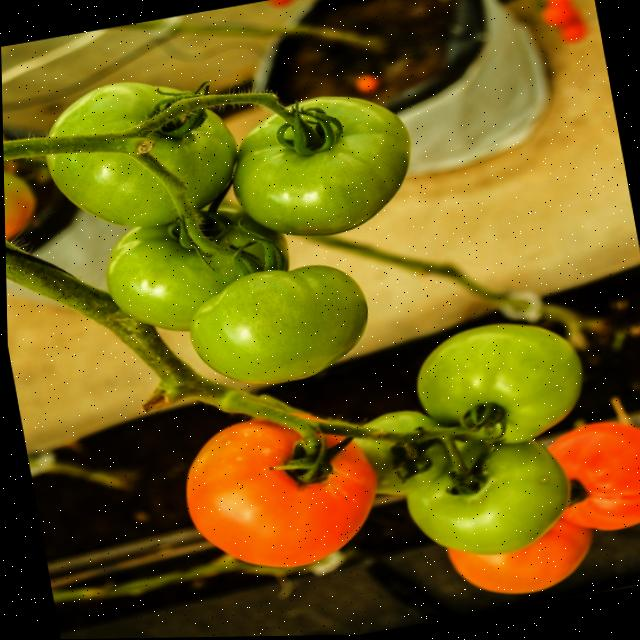ripe0: (233, 97, 410, 236), (107, 211, 288, 331), (191, 265, 367, 383), (417, 324, 581, 443), (407, 441, 569, 555), (47, 139, 175, 227), (148, 111, 236, 208), (50, 82, 179, 136)
